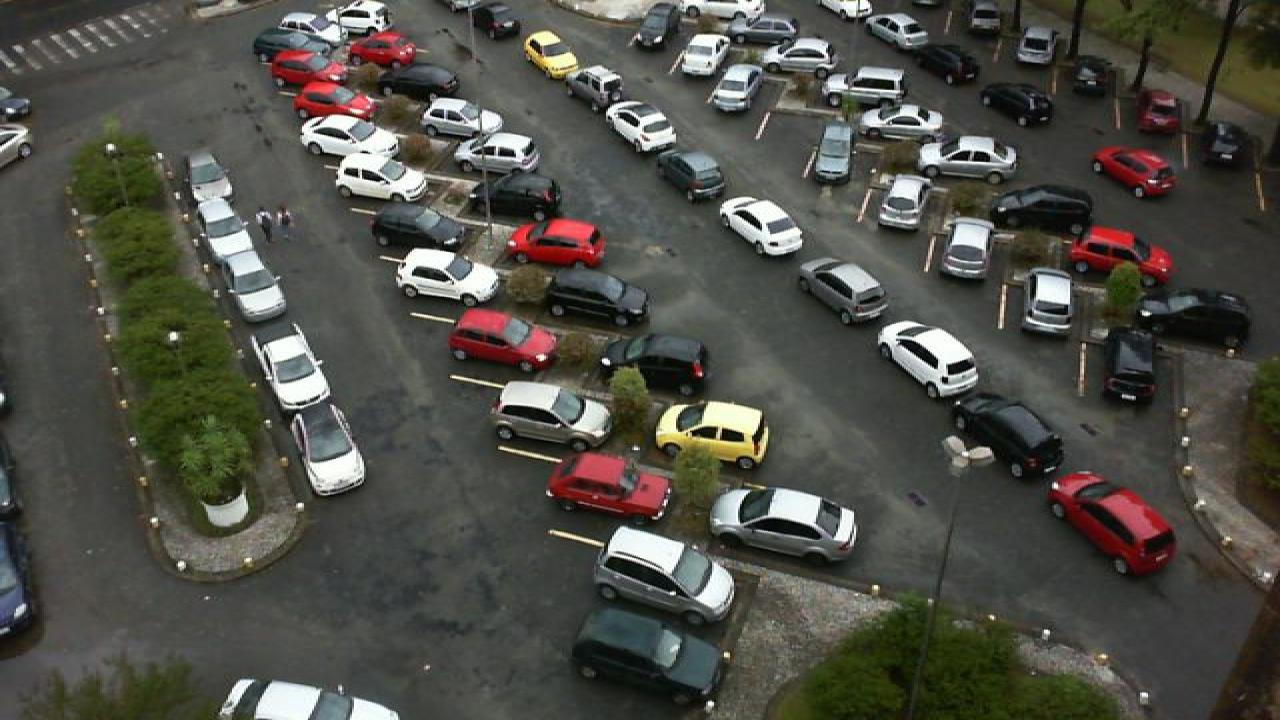Car: (570, 605, 726, 709), (590, 523, 740, 630), (1044, 470, 1182, 577), (710, 485, 864, 565), (954, 390, 1068, 480), (544, 449, 674, 521), (488, 379, 618, 451), (874, 318, 980, 398), (654, 400, 772, 470), (292, 400, 368, 498), (598, 332, 712, 397), (446, 308, 560, 372), (540, 266, 652, 330), (256, 322, 334, 410), (1138, 289, 1252, 349), (1066, 225, 1174, 286), (800, 256, 890, 328), (392, 249, 500, 306), (460, 170, 564, 225), (716, 195, 806, 258), (504, 217, 610, 270), (990, 185, 1098, 236), (218, 248, 290, 324), (330, 152, 430, 204), (1104, 325, 1166, 406), (918, 134, 1020, 183), (1092, 143, 1180, 199), (366, 206, 464, 254), (296, 112, 396, 158), (194, 195, 266, 258), (1020, 266, 1078, 336), (452, 130, 544, 174), (654, 150, 728, 204), (938, 214, 998, 280), (606, 101, 678, 154), (876, 171, 936, 233), (420, 96, 500, 140), (980, 81, 1056, 126), (818, 64, 906, 102), (862, 103, 944, 143), (910, 42, 980, 88), (376, 62, 460, 100), (522, 29, 584, 80), (292, 82, 374, 120), (182, 151, 234, 207), (250, 29, 330, 64), (630, 2, 686, 52), (862, 11, 930, 52), (270, 49, 348, 84), (704, 64, 758, 114), (814, 121, 856, 184), (346, 29, 420, 64), (678, 32, 734, 76), (776, 35, 840, 73), (570, 64, 624, 108), (1136, 88, 1186, 134), (680, 0, 766, 25), (730, 15, 800, 45), (1072, 52, 1116, 96), (336, 0, 392, 34), (1016, 23, 1060, 66), (280, 11, 338, 36)
